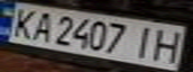0: (87, 18, 109, 53)
2: (48, 12, 75, 47)
4: (69, 16, 93, 51)
7: (103, 20, 133, 56)
A: (24, 10, 57, 43)
H: (145, 26, 190, 63)
I: (127, 24, 163, 60)
K: (3, 6, 42, 39)
